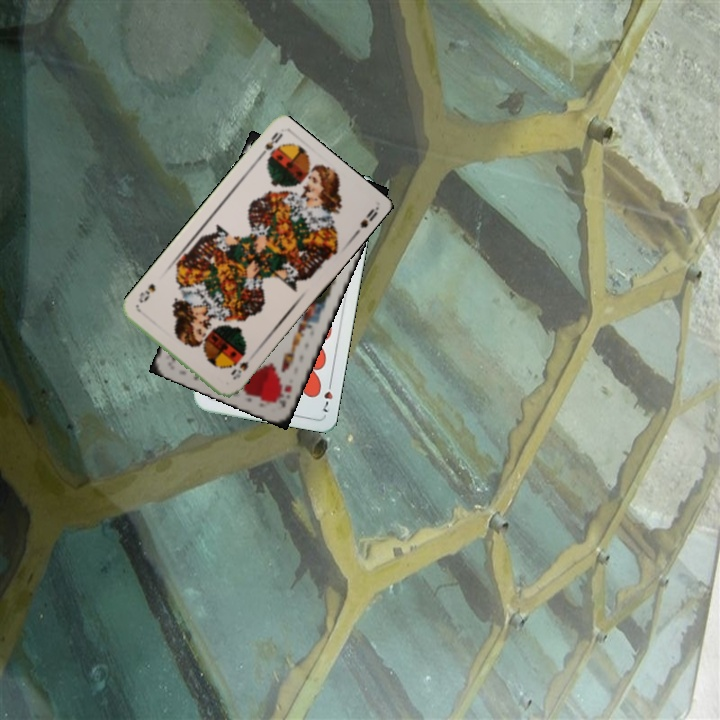H7: (319, 376, 335, 415)
HK: (271, 380, 295, 410)
SO: (253, 128, 285, 163), (227, 348, 251, 382)
